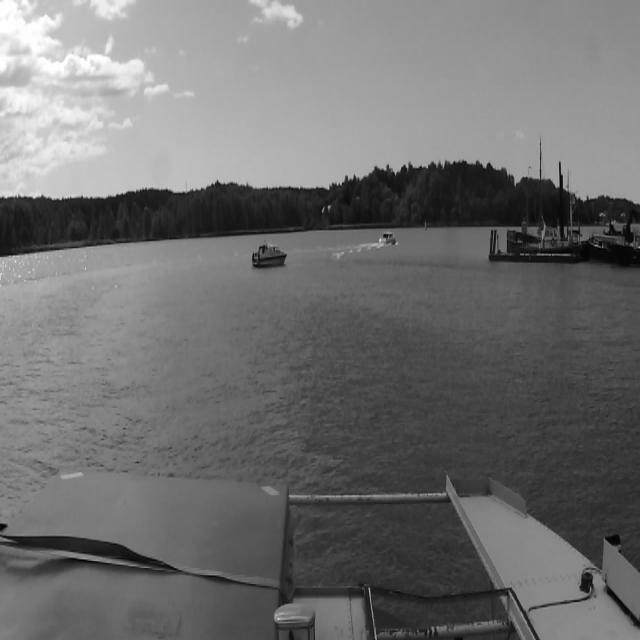ship: (249, 237, 289, 270), (378, 231, 400, 250)
